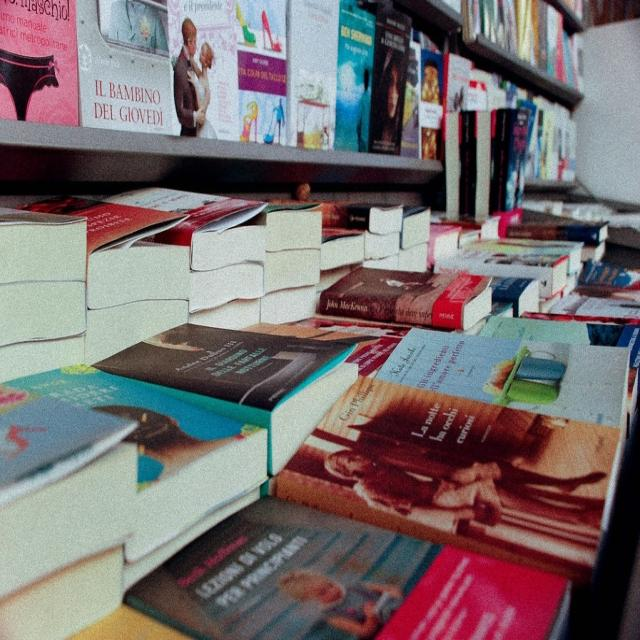book: (283, 374, 625, 567), (95, 319, 356, 414), (334, 3, 377, 148), (371, 11, 415, 151), (319, 292, 461, 333), (493, 111, 516, 214)
